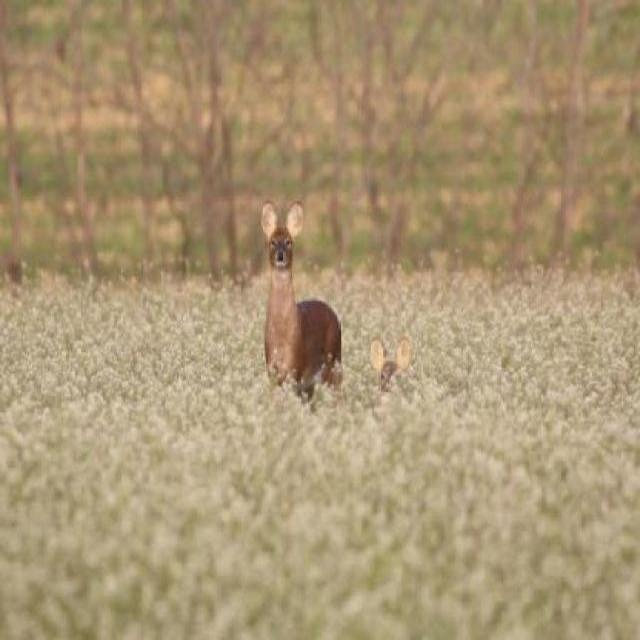deer: (250, 185, 346, 435)
